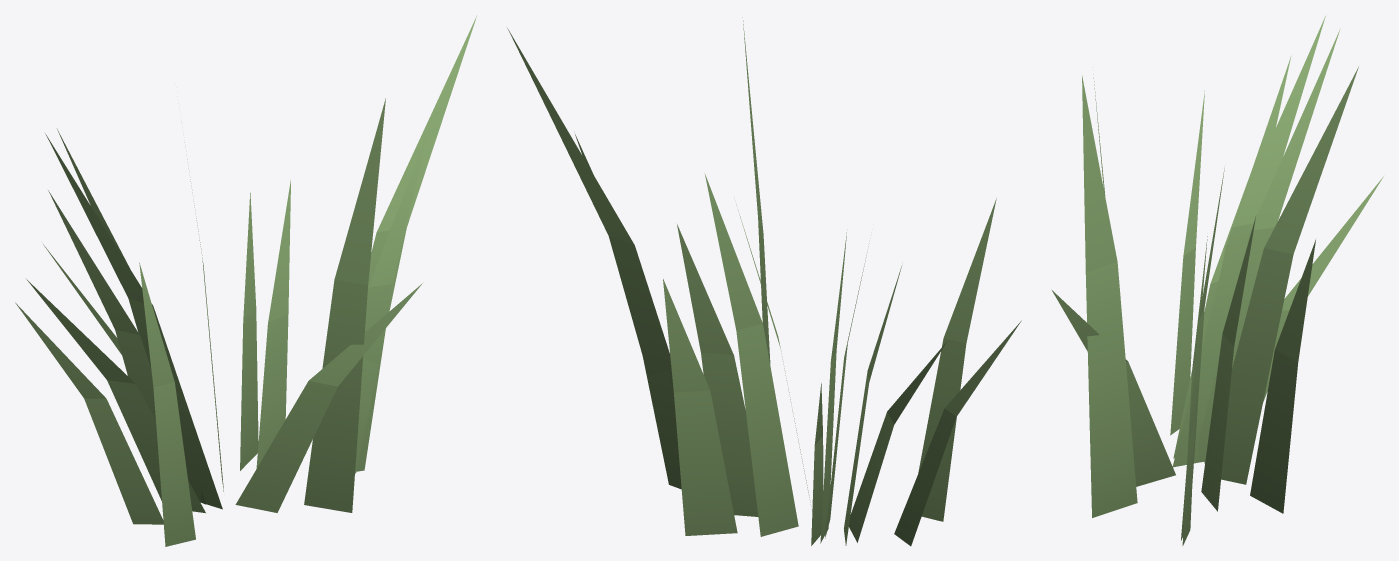
File: grass_tuft.glb
The picture shows the model from 3 angles, left to right: view 1: azimuth 30°, elevation 25°; view 2: azimuth 150°, elevation 25°; view 3: azimuth 270°, elevation 25°; orthographic projection. The views are drawn at different scales.
Parts seen in each view (by area): view 1: grass_tuft; view 2: grass_tuft; view 3: grass_tuft.
Boxes of the visible parts, x1,y1,x2,y2 form: grass_tuft: (15, 16, 476, 546); grass_tuft: (507, 17, 1021, 546); grass_tuft: (1052, 16, 1383, 545).
Size of the model in its own units: 0.6169 by 0.5143 by 0.3386.
